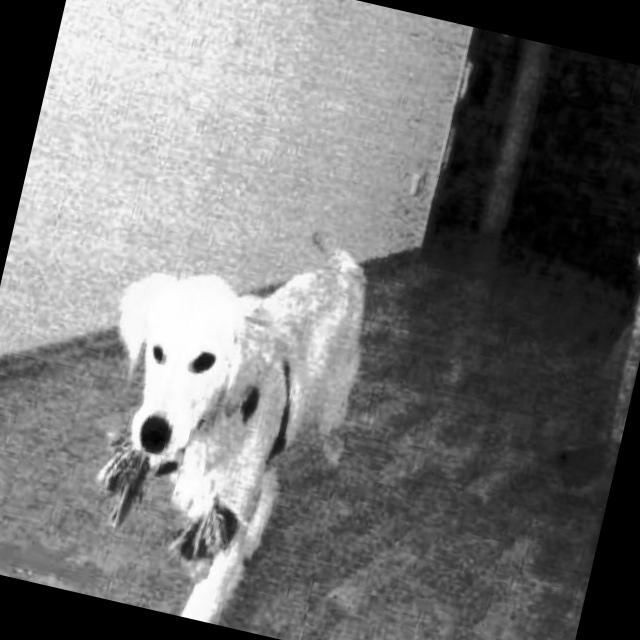Dog: (56, 178, 396, 640)
